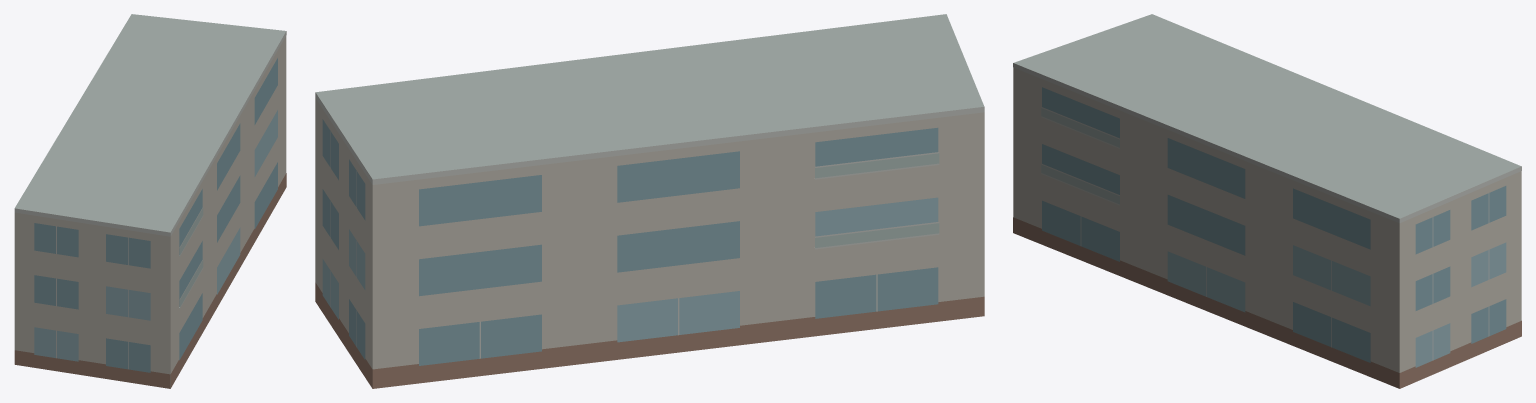
File: survey-upis-32757418.glb
The picture shows the model from 3 angles, left to right: view 1: azimuth 30°, elevation 25°; view 2: azimuth 150°, elevation 25°; view 3: azimuth 270°, elevation 25°; orthographic projection. The views are drawn at different scales.
Parts seen in each view (by area): view 1: survey-upis-32757418.tmp; view 2: survey-upis-32757418.tmp; view 3: survey-upis-32757418.tmp.
Part boxes in pixels (box(x1,y1,x2,y2)): survey-upis-32757418.tmp: box(14, 14, 286, 388); survey-upis-32757418.tmp: box(315, 14, 984, 388); survey-upis-32757418.tmp: box(1013, 14, 1521, 388).
Bounding box in the file's own units: 23.63 × 9.15 × 24.8.
